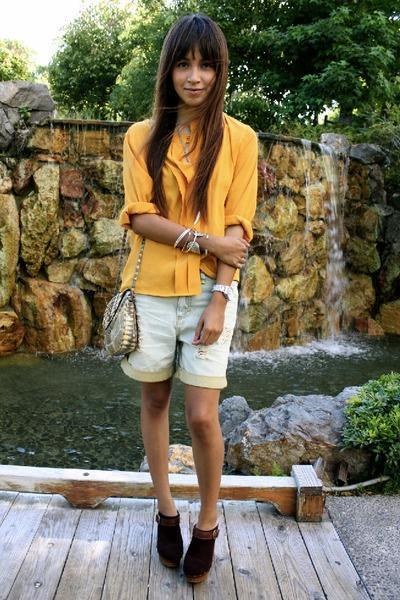bag: (95, 290, 143, 361)
jacket: (119, 112, 260, 299)
shoe: (156, 511, 219, 587)
shorts: (121, 281, 251, 387)
